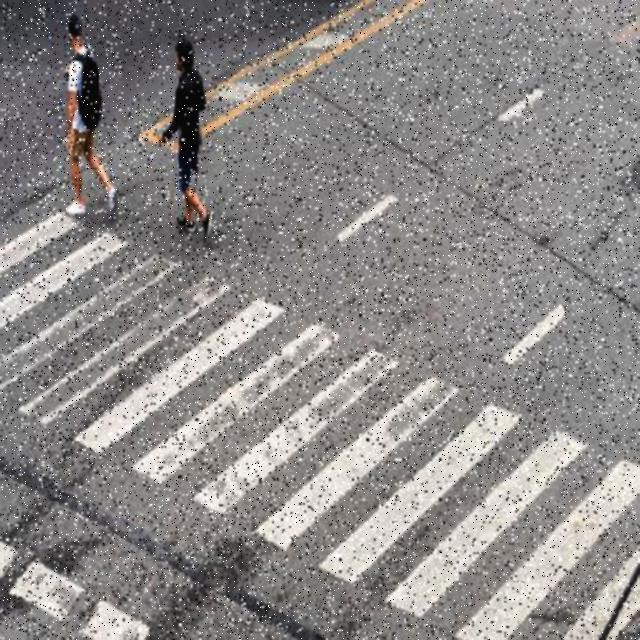Pedestrian crosswalk: (1, 202, 638, 639)
